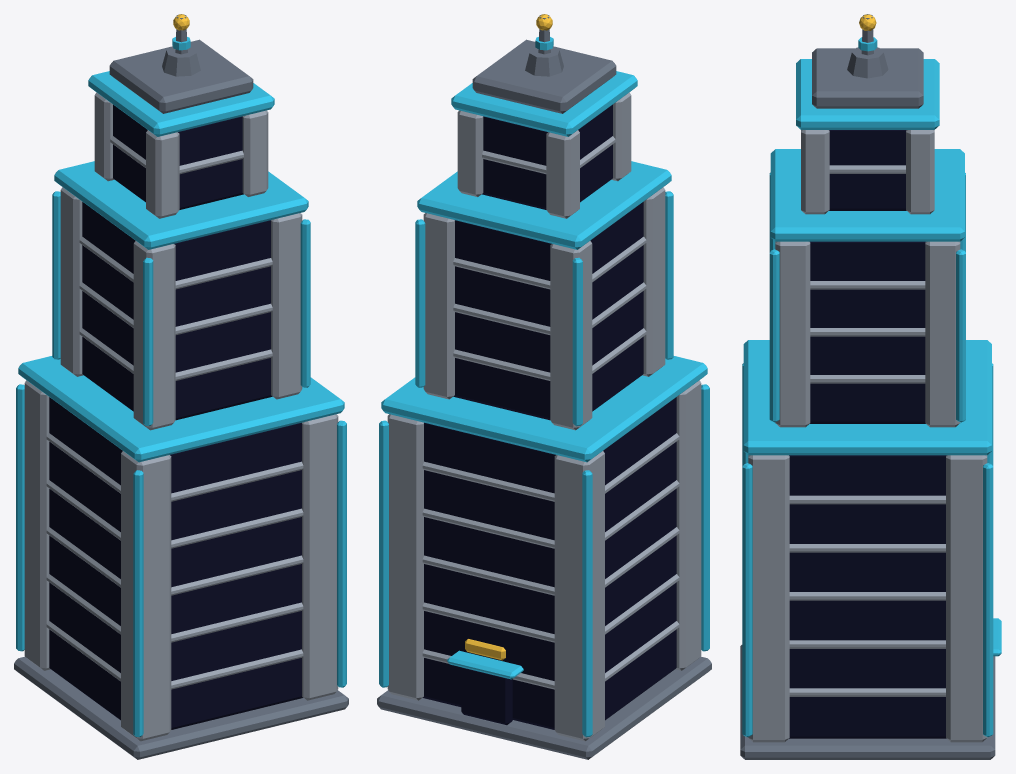
Rendered from Prop_hero_city_NeonTower.glb.
3 renders of one model, left to right at view 1: azimuth 30°, elevation 25°; view 2: azimuth 150°, elevation 25°; view 3: azimuth 270°, elevation 25°, orthographic. The views are drawn at different scales.
Parts seen in each view (by area): view 1: GlassInk_0D0F2B, StoneLight_9AA4B2, ZoneCyan_35C9F0, StoneDark_6B7686; view 2: GlassInk_0D0F2B, StoneLight_9AA4B2, ZoneCyan_35C9F0, StoneDark_6B7686, Gold_FFC83D; view 3: GlassInk_0D0F2B, StoneLight_9AA4B2, ZoneCyan_35C9F0, StoneDark_6B7686.
Part boxes in pixels (x1,y1,x2,y2): GlassInk_0D0F2B: (49,104,303,729); StoneLight_9AA4B2: (24,92,338,741); ZoneCyan_35C9F0: (16,37,346,737); StoneDark_6B7686: (14,14,348,759); GlassInk_0D0F2B: (422,104,676,729); StoneLight_9AA4B2: (387,92,701,741); ZoneCyan_35C9F0: (379,37,709,737); StoneDark_6B7686: (377,14,711,759); Gold_FFC83D: (465,14,552,660); GlassInk_0D0F2B: (789,130,946,738); StoneLight_9AA4B2: (748,130,987,742); ZoneCyan_35C9F0: (742,37,1001,737); StoneDark_6B7686: (740,14,995,759).
Size of the model in its own units: 16 by 48 by 16.4.
